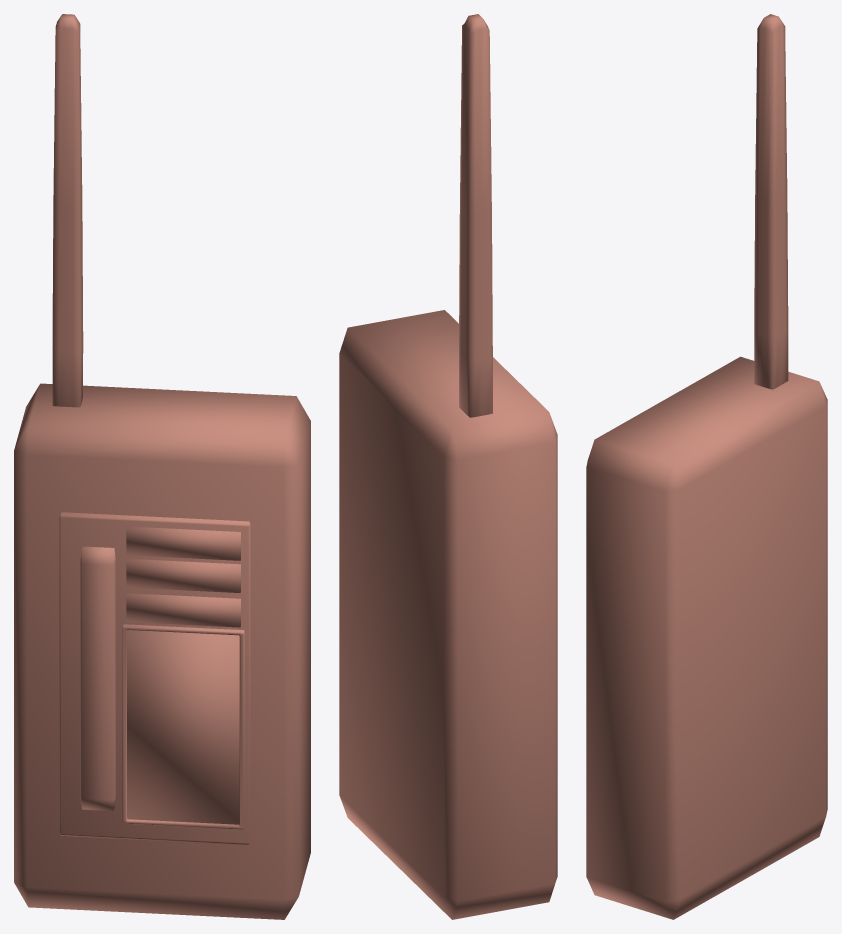
Rendered from radio.obj.
3 renders of one model, left to right at view 1: azimuth 30°, elevation 25°; view 2: azimuth 150°, elevation 25°; view 3: azimuth 270°, elevation 25°, orthographic. The views are drawn at different scales.
Visible parts, largest first — view 1: vn_commander_uniform_radio; view 2: vn_commander_uniform_radio; view 3: vn_commander_uniform_radio.
Boxes of the visible parts, bbox=[...] form: vn_commander_uniform_radio: bbox=[14, 14, 310, 919]; vn_commander_uniform_radio: bbox=[339, 14, 557, 919]; vn_commander_uniform_radio: bbox=[586, 14, 827, 919].
Bounding box in the file's own units: 1.78 × 5.82 × 1.55.
